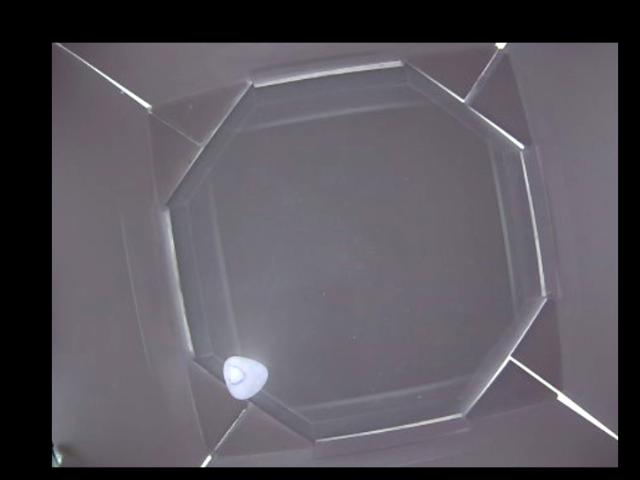Pebble: (224, 354, 264, 398)
